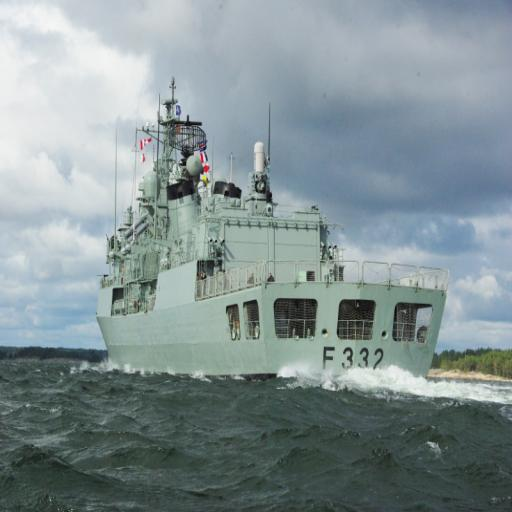Fragata: (93, 70, 451, 395)
